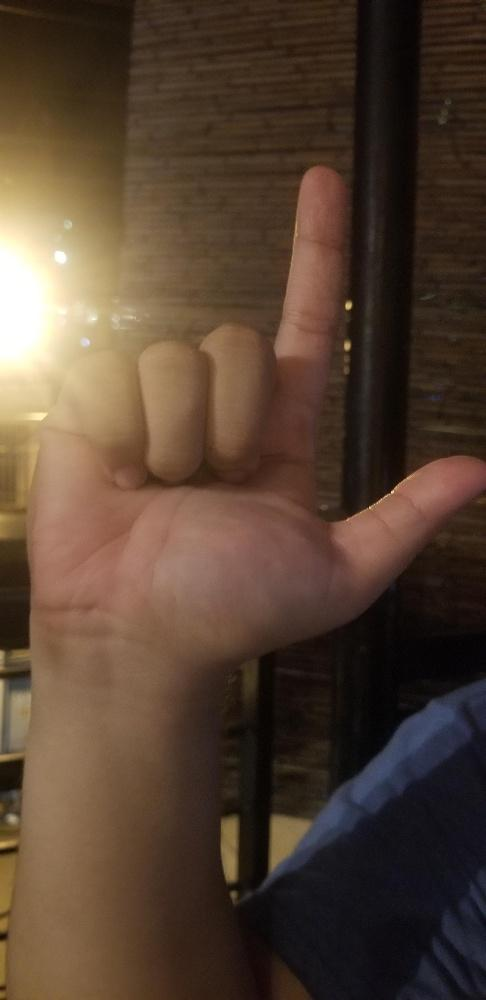l: (23, 164, 485, 656)
